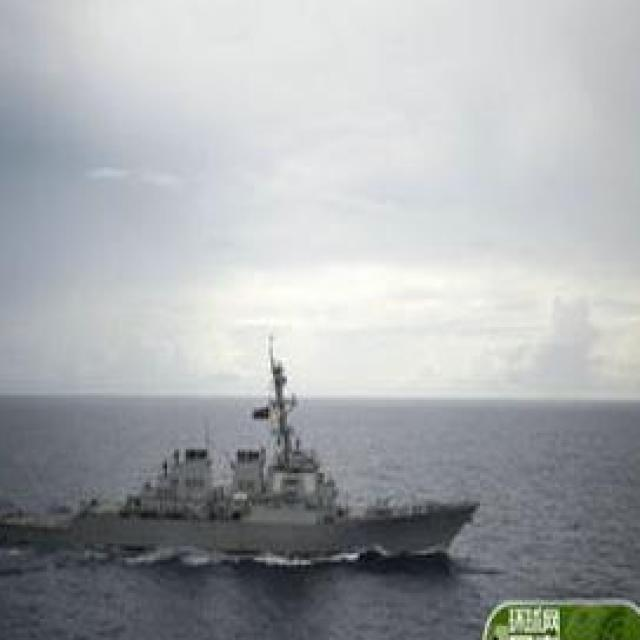navalvessels: (0, 344, 475, 572)
